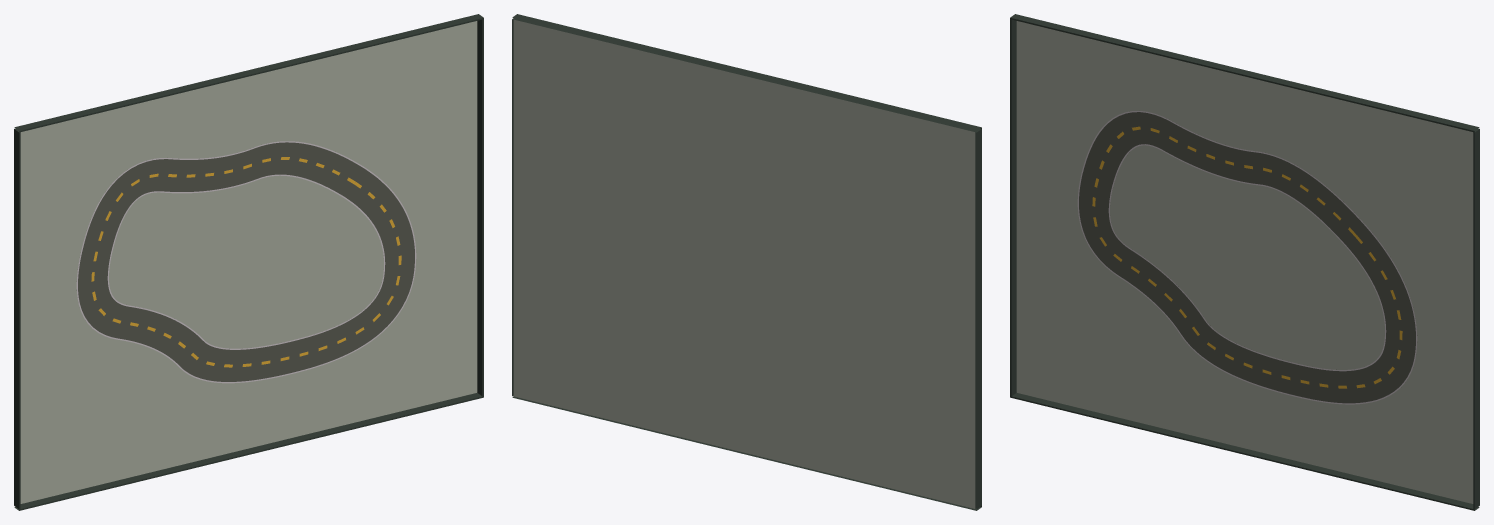
The model's file is track.obj.
The picture shows the model from 3 angles, left to right: view 1: azimuth 30°, elevation 25°; view 2: azimuth 150°, elevation 25°; view 3: azimuth 330°, elevation 25°; orthographic projection.
Bounding box in the file's own units: 15.9 × 12.42 × 0.3.
